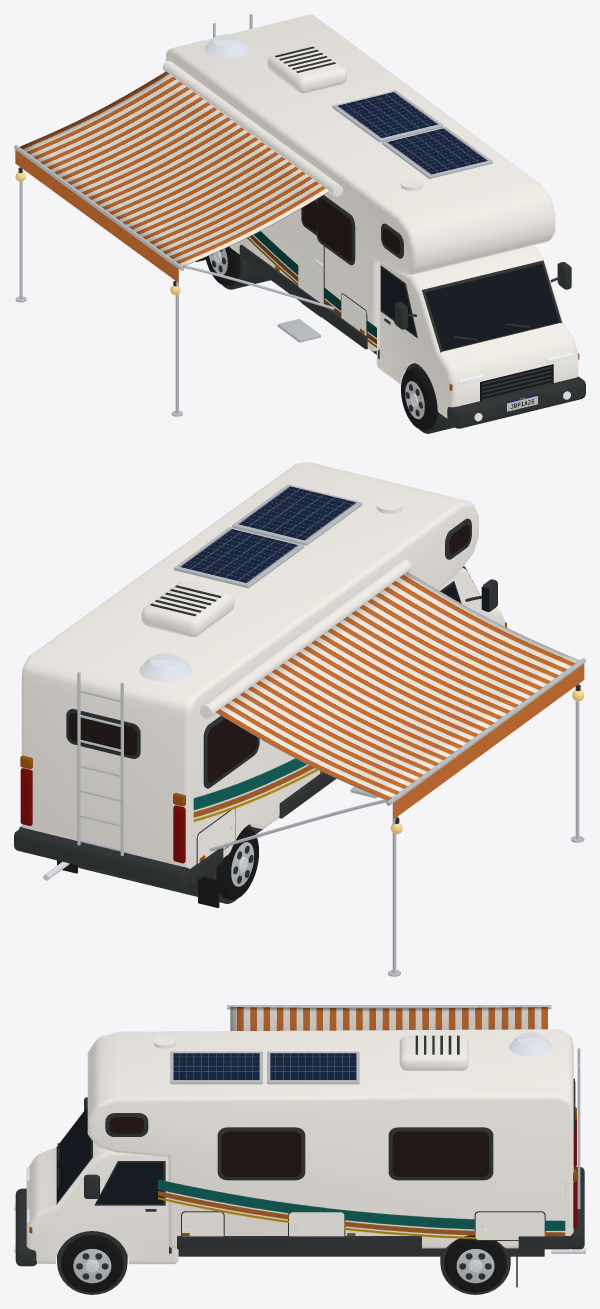
File: motorhome.glb
The picture shows the model from 3 angles, top to bottom: view 1: azimuth 30°, elevation 25°; view 2: azimuth 150°, elevation 25°; view 3: azimuth 270°, elevation 25°; orthographic projection. The views are drawn at different scales.
Visible parts, largest first — view 1: mh_pintura, mh_lona_toldo, mh_aro, mh_plastico_escuro, mh_painel_solar, mh_grade, mh_decalque, mh_claraboia; view 2: mh_pintura, mh_lona_toldo, mh_aro, mh_plastico_escuro, mh_painel_solar, mh_decalque, mh_luz_farol, mh_claraboia; view 3: mh_pintura, mh_plastico_escuro, mh_aro, mh_lona_toldo, mh_decalque, mh_painel_solar, mh_claraboia, mh_luz_farol.
Part boxes in pixels (x1,y1,x2,y2): mh_pintura: (162, 14, 578, 430); mh_lona_toldo: (20, 71, 329, 266); mh_aro: (14, 14, 559, 419); mh_plastico_escuro: (18, 46, 585, 433); mh_painel_solar: (334, 90, 490, 175); mh_grade: (480, 364, 553, 401); mh_decalque: (247, 231, 376, 347); mh_claraboia: (204, 34, 249, 58); mh_pintura: (21, 462, 505, 907); mh_lona_toldo: (216, 572, 579, 800); mh_aro: (77, 484, 585, 976); mh_plastico_escuro: (14, 518, 580, 903); mh_painel_solar: (176, 485, 359, 584); mh_decalque: (193, 758, 318, 821); mh_luz_farol: (20, 768, 185, 863); mh_claraboia: (139, 653, 192, 681); mh_pintura: (26, 1029, 585, 1292); mh_plastico_escuro: (15, 1035, 584, 1294); mh_aro: (56, 1005, 580, 1283); mh_lona_toldo: (230, 1007, 547, 1030); mh_decalque: (158, 1179, 565, 1240); mh_painel_solar: (171, 1052, 357, 1081); mh_claraboia: (508, 1032, 552, 1056); mh_luz_farol: (14, 1119, 576, 1252).
Size of the model in its own units: 5.24 by 3.53 by 8.28.
12 materials, 12 textured.
